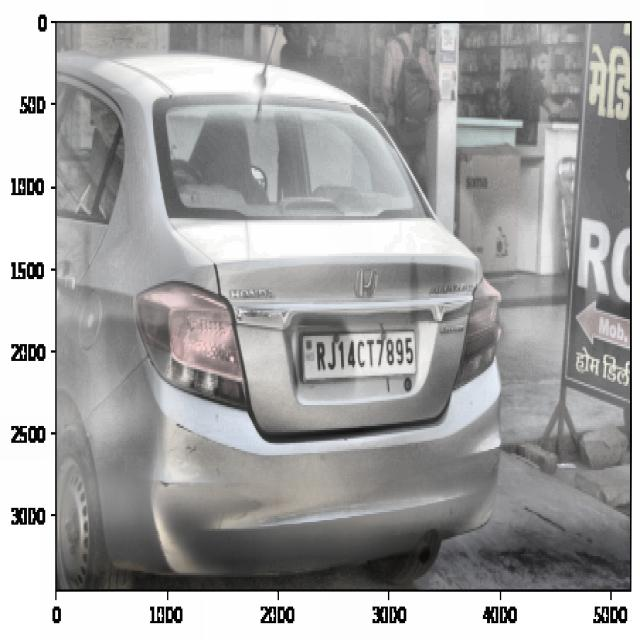license_plate: (308, 332, 418, 382)
